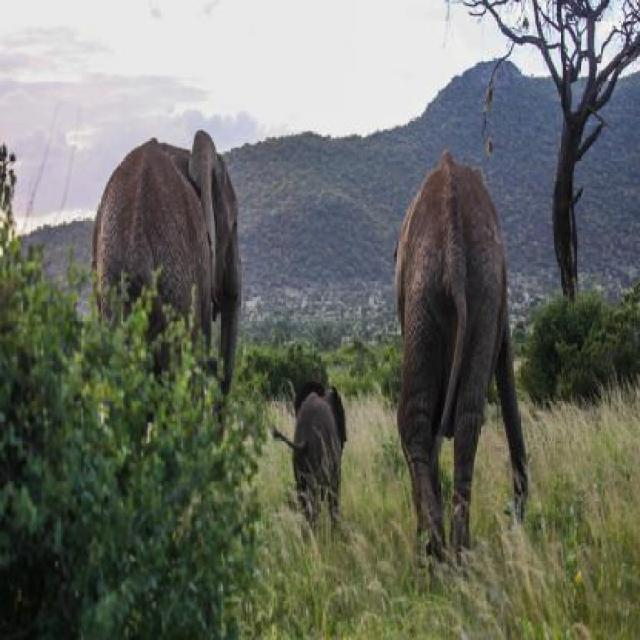Elephant: (393, 145, 533, 542), (90, 134, 250, 423), (265, 380, 350, 540)
